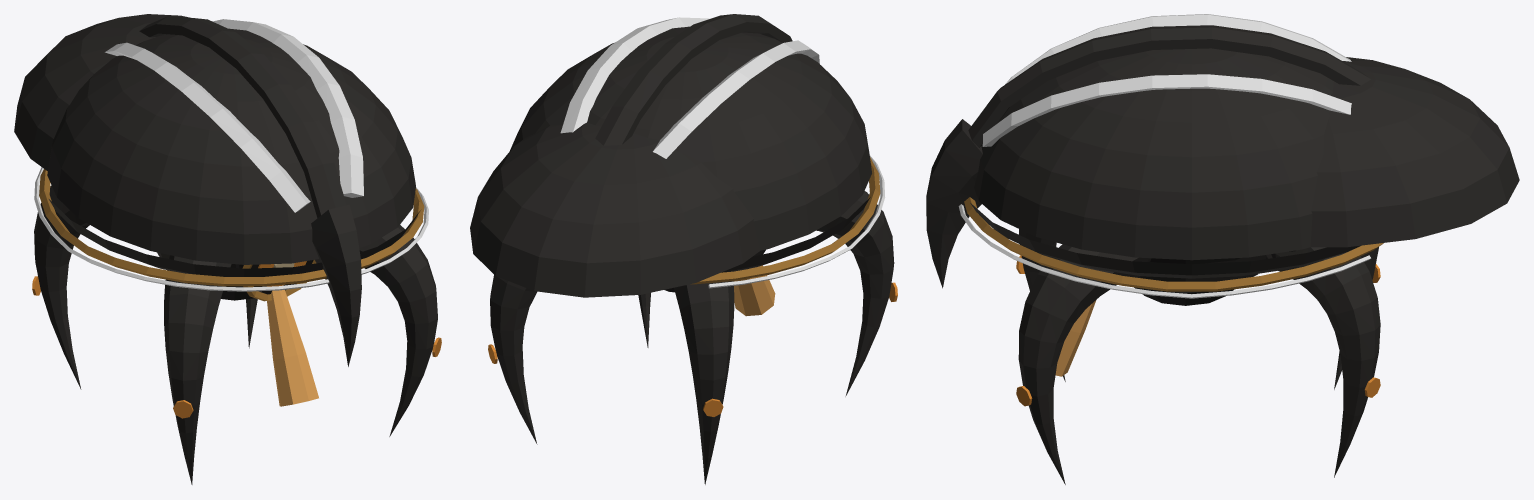
Rendered from gunship.glb.
3 renders of one model, left to right at view 1: azimuth 30°, elevation 25°; view 2: azimuth 150°, elevation 25°; view 3: azimuth 270°, elevation 25°, orthographic. The views are drawn at different scales.
Visible parts, largest first — view 1: body; view 2: body; view 3: body.
Part boxes in pixels (<box>): body: <box>14,14,441,484</box>; body: <box>470,14,897,484</box>; body: <box>926,14,1519,484</box>.
Size of the model in its own units: 6.44 by 7.13 by 9.41.
